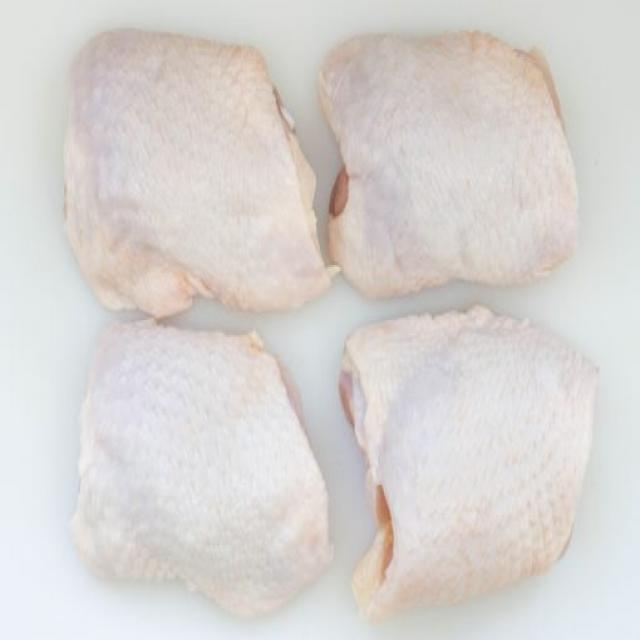chicken: (340, 307, 599, 620), (64, 28, 333, 317), (73, 324, 333, 616), (320, 30, 580, 296)
